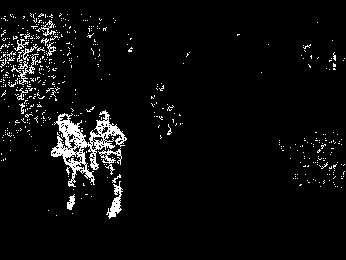person: (48, 112, 96, 212), (87, 110, 128, 217)
